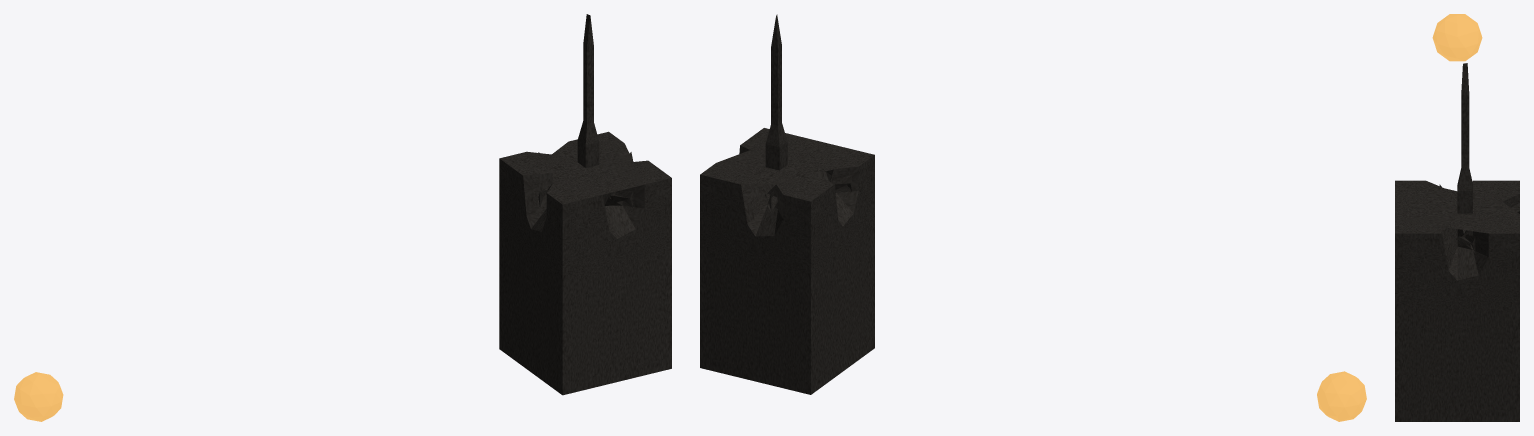
Rendered from iron_lantern_r3.glb.
3 renders of one model, left to right at view 1: azimuth 30°, elevation 25°; view 2: azimuth 150°, elevation 25°; view 3: azimuth 270°, elevation 25°, orthographic. The views are drawn at different scales.
Parts seen in each view (by area): view 1: iron_lantern_lp, lantern_flame; view 2: iron_lantern_lp, lantern_flame; view 3: iron_lantern_lp, lantern_flame.
Part boxes in pixels (x1,y1,x2,y2): iron_lantern_lp: (499, 14, 671, 395); lantern_flame: (14, 372, 63, 421); iron_lantern_lp: (700, 14, 874, 394); lantern_flame: (1317, 371, 1366, 421); iron_lantern_lp: (1395, 63, 1519, 421); lantern_flame: (1432, 14, 1482, 61).
Size of the model in its own units: 1.71 by 0.8902 by 0.3.
Materials: 2 (1 with a texture image).
